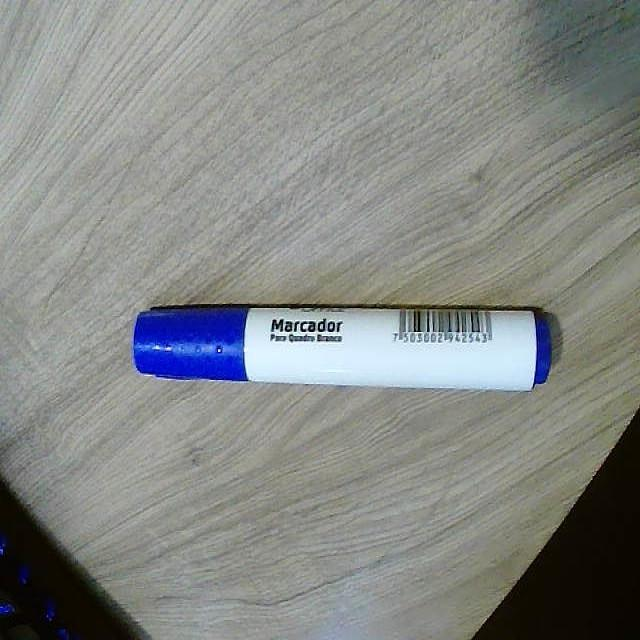caneta: (113, 276, 573, 412)
